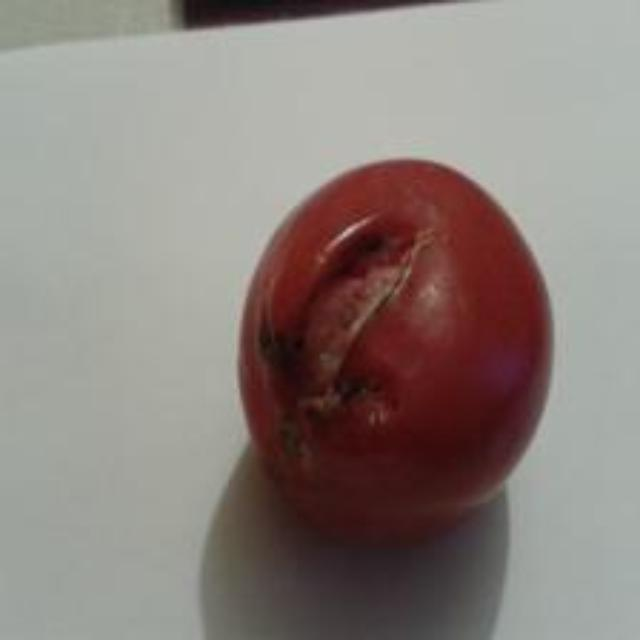defect: (236, 152, 559, 552)
